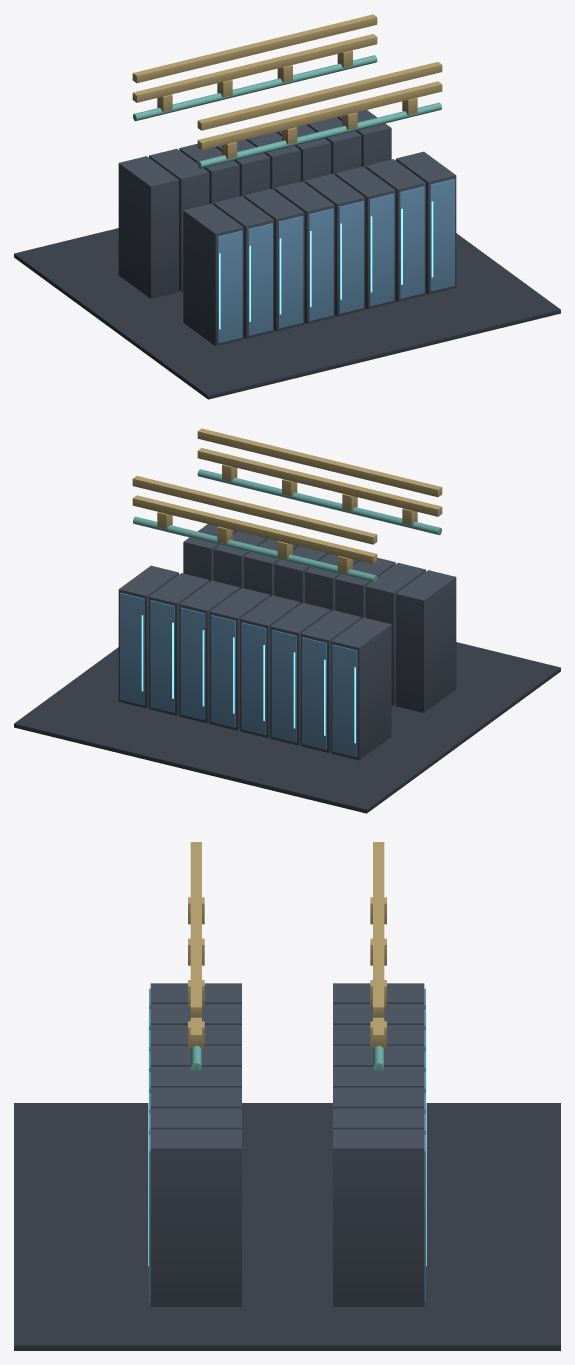
File: rubin-nvl144.glb
3 renders of one model, top to bottom at view 1: azimuth 30°, elevation 25°; view 2: azimuth 150°, elevation 25°; view 3: azimuth 270°, elevation 25°, orthographic. The views are drawn at different scales.
Parts seen in each view (by area): view 1: floor, rack-B1, rack-A1, busway-A1, busway-A2, busway-B1, busway-B2, rack-A3-door, rack-A6-door, rack-A4-door, rack-A1-door, rack-A2-door (+19 smaller); view 2: floor, rack-A1, rack-B1, busway-B1, busway-B2, busway-A1, busway-A2, rack-B3-door, rack-B6-door, rack-B4-door, rack-B1-door, rack-B2-door (+19 smaller); view 3: floor, rack-A8, rack-B8, busway-A2, busway-B2, rack-A7, rack-B7, rack-A6, rack-B6, rack-A5, rack-B5, rack-A4 (+7 smaller).
Boxes of the visible parts, x1,y1,x2,y2 form: floor: (14, 228, 560, 399); rack-B1: (118, 156, 178, 298); rack-A1: (183, 203, 243, 346); busway-A1: (197, 81, 442, 150); busway-A2: (197, 62, 442, 130); busway-B1: (132, 34, 377, 102); busway-B2: (132, 14, 377, 83); rack-A3-door: (278, 216, 303, 328); rack-A6-door: (369, 193, 394, 306); rack-A4-door: (308, 208, 333, 321); rack-A1-door: (217, 230, 242, 343); rack-A2-door: (248, 223, 272, 335); floor: (14, 642, 560, 813); rack-A1: (396, 570, 456, 712); rack-B1: (331, 617, 391, 760); busway-B1: (132, 495, 377, 564); busway-B2: (132, 476, 377, 544); busway-A1: (197, 448, 442, 516); busway-A2: (197, 428, 442, 497); rack-B3-door: (271, 630, 296, 742); rack-B6-door: (180, 607, 205, 720); rack-B4-door: (241, 622, 266, 735); rack-B1-door: (332, 644, 357, 757); rack-B2-door: (302, 637, 326, 749); floor: (14, 1103, 560, 1350); rack-A8: (150, 1129, 241, 1306); rack-B8: (333, 1129, 424, 1306); busway-A2: (190, 842, 201, 1017); busway-B2: (373, 842, 384, 1017); rack-A7: (150, 1108, 241, 1129); rack-B7: (333, 1108, 424, 1129); rack-A6: (150, 1087, 241, 1108); rack-B6: (333, 1087, 424, 1108); rack-A5: (150, 1066, 241, 1087); rack-B5: (333, 1066, 424, 1087); rack-A4: (150, 1045, 241, 1066).
Bounding box in the file's own units: 7.55 × 4.43 × 7.2.
